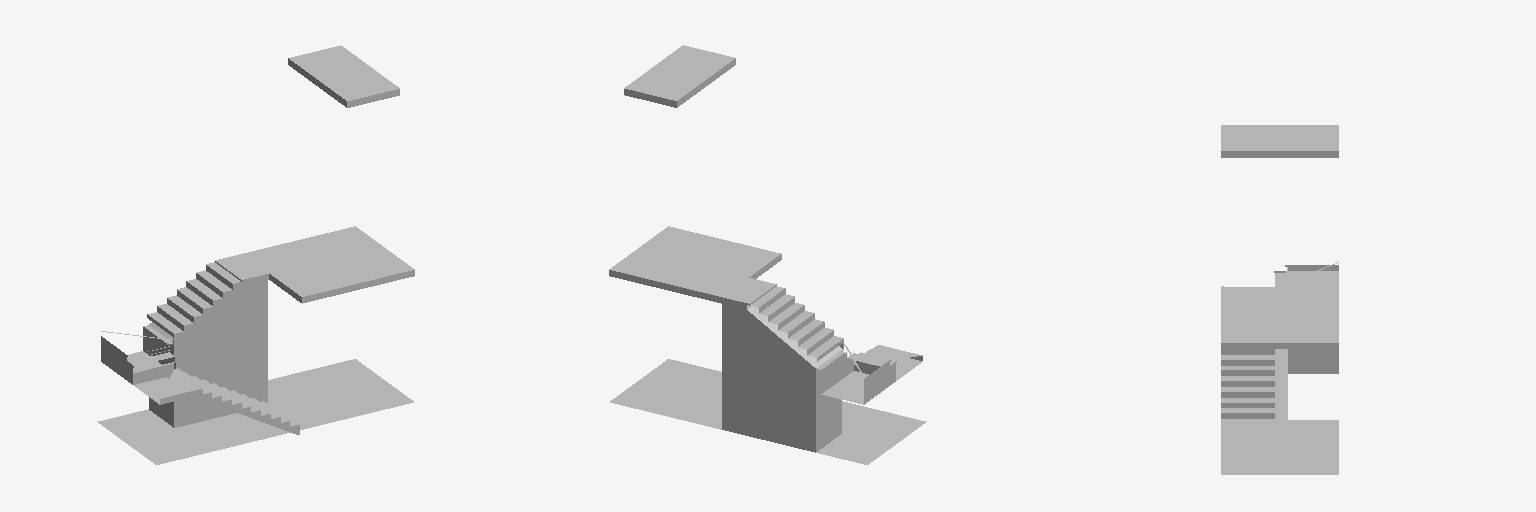
Rendered from floors.obj.
3 renders of one model, left to right at view 1: azimuth 30°, elevation 25°; view 2: azimuth 150°, elevation 25°; view 3: azimuth 270°, elevation 25°, orthographic.
Parts seen in each view (by area): view 1: Mesh3_Component_1_1_stairs1_Model; view 2: Mesh3_Component_1_1_stairs1_Model; view 3: Mesh3_Component_1_1_stairs1_Model.
Part boxes in pixels (x1,y1,x2,y2): Mesh3_Component_1_1_stairs1_Model: (98,45,414,464); Mesh3_Component_1_1_stairs1_Model: (609,45,925,464); Mesh3_Component_1_1_stairs1_Model: (1221,125,1338,474).
Bounding box in the file's own units: 36.69 × 43.72 × 14.62.